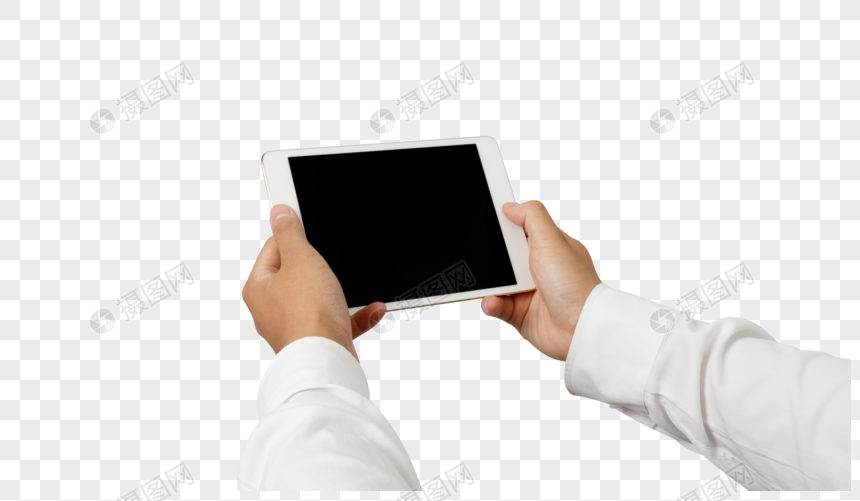pad: (243, 133, 597, 350)
